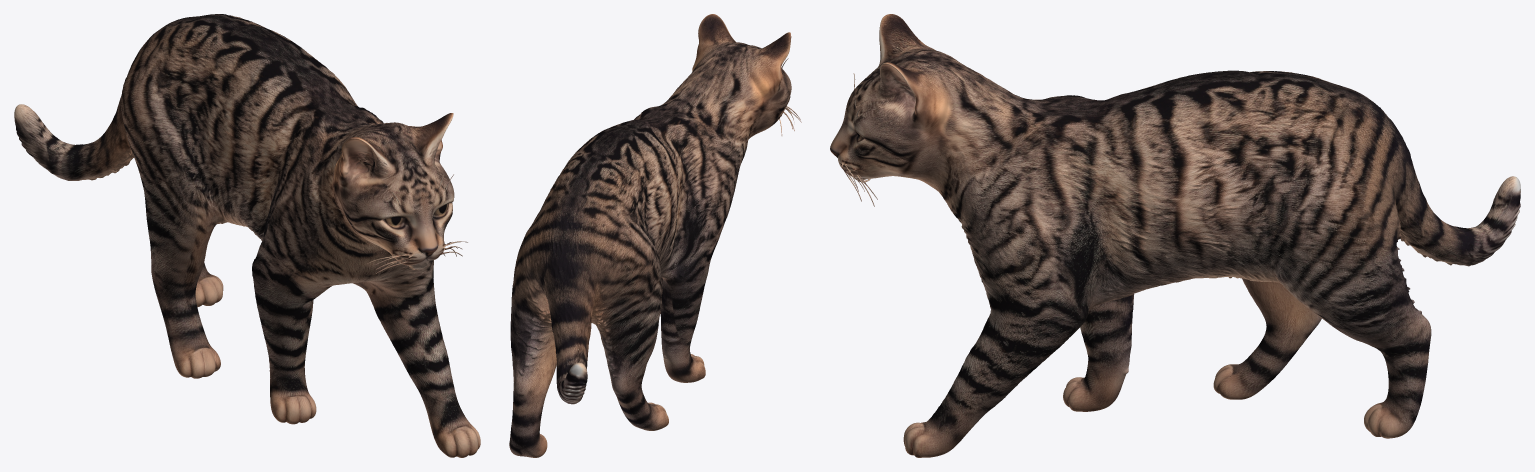
File: cat_in_motion_3d_model_free.glb
3 renders of one model, left to right at view 1: azimuth 30°, elevation 25°; view 2: azimuth 150°, elevation 25°; view 3: azimuth 270°, elevation 25°, orthographic. The views are drawn at different scales.
Visible parts, largest first — view 1: mesh_node_0; view 2: mesh_node_0; view 3: mesh_node_0.
Part boxes in pixels (<box>): mesh_node_0: <box>14,14,480,457</box>; mesh_node_0: <box>509,14,801,457</box>; mesh_node_0: <box>830,14,1520,457</box>.
Size of the model in its own units: 0.6314 by 1.14 by 1.9.
Materials: 1 (1 with a texture image).
